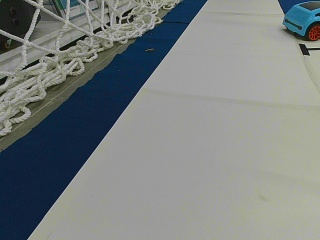car: (281, 1, 319, 39)
